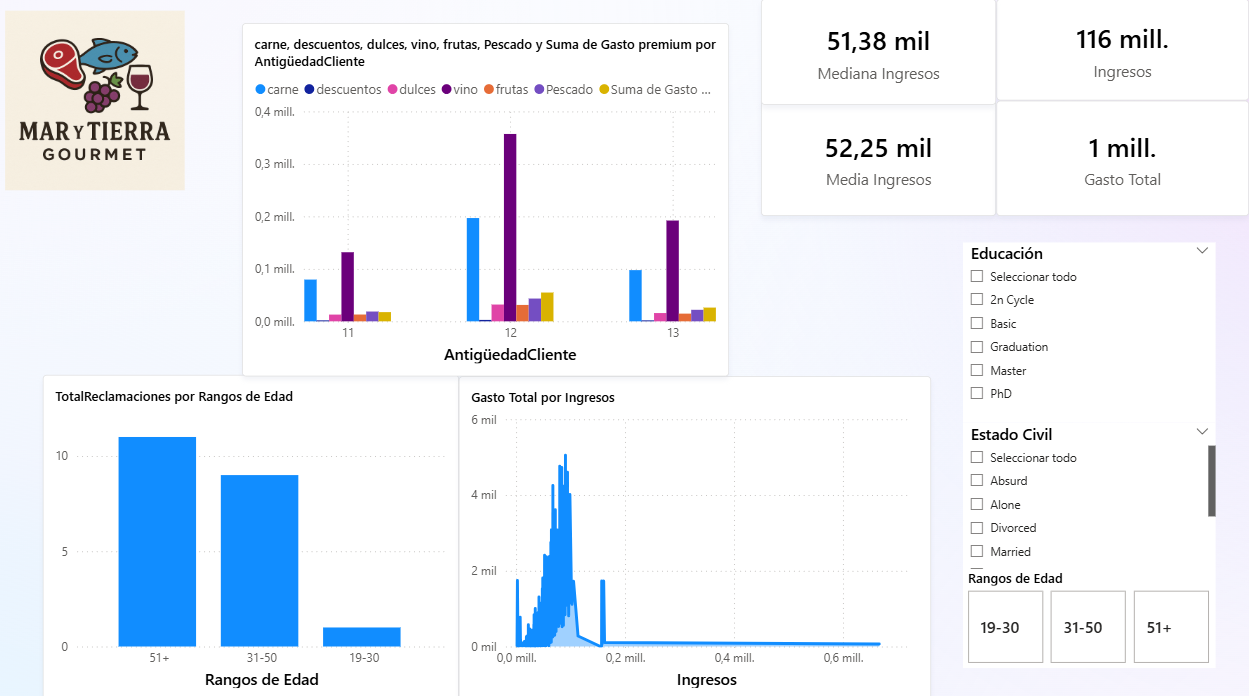

What the dashboard file says about the page in this screenshot:
{"tool":"powerbi","page":{"name":"Página 1","canvas":[1280,720],"ordinal":0},"visuals":[{"type":"card","fields":{"Values":["marketing_campaign.MediaIngresos"]},"box":[779.4,104.1,241.1,117.8],"z":0},{"type":"card","fields":{"Values":["Sum(marketing_campaign.Ingresos)"]},"box":[1020.5,0,258.9,104.1],"z":2},{"type":"card","fields":{"Values":["marketing_campaign.Mediana de Edad"]},"box":[779.4,0,241.1,108.2],"z":3},{"type":"card","fields":{"Values":["Sum(marketing_campaign.Gasto Total)"]},"box":[1020.5,104.1,258.9,117.8],"z":4},{"type":"advancedSlicerVisual","fields":{"Values":["marketing_campaign.Rangos de Edad"]},"box":[986.2,583.5,258.9,101.4],"z":5},{"type":"slicer","fields":{"Values":["marketing_campaign.Estado Civil"]},"box":[986.2,434.2,258.9,149.3],"z":6},{"type":"slicer","fields":{"Values":["marketing_campaign.Educación"]},"box":[986.2,249.3,258.9,184.9],"z":7},{"type":"image","box":[0,0,194.5,208.2],"z":9},{"type":"clusteredColumnChart","fields":{"Y":["marketing_campaign.TotalReclamaciones"],"Category":["marketing_campaign.Rangos de Edad"]},"box":[43.8,384.9,426,334.2],"z":10},{"type":"areaChart","fields":{"Category":["marketing_campaign.Ingresos"],"Y":["Sum(marketing_campaign.Gasto Total)"]},"box":[469.8,386.3,483.5,332.9],"z":11},{"type":"clusteredColumnChart","fields":{"Category":["marketing_campaign.AntigüedadCliente"],"Y":["Sum(marketing_campaign.Gasto carne)","Sum(marketing_campaign.Gasto descuentos)","Sum(marketing_campaign.Gasto dulces)","Sum(marketing_campaign.Gasto en vino)","Sum(marketing_campaign.Gasto frutas)","Sum(marketing_campaign.Gasto Pescado)","Sum(marketing_campaign.Gasto premium)"]},"box":[247.9,24.7,498.6,361.6],"z":12}]}

Visuals, with their boxes in screenshot pixels (x1, y1, x2, y2), scaled from the page's 1280x720 canvas onto the 1249x696 screenshot:
card - marketing_campaign.MediaIngresos: select_region(761, 101, 996, 215)
card - Sum(marketing_campaign.Ingresos): select_region(996, 0, 1248, 101)
card - marketing_campaign.Mediana de Edad: select_region(761, 0, 996, 105)
card - Sum(marketing_campaign.Gasto Total): select_region(996, 101, 1248, 215)
advancedSlicerVisual - marketing_campaign.Rangos de Edad: select_region(962, 564, 1215, 662)
slicer - marketing_campaign.Estado Civil: select_region(962, 420, 1215, 564)
slicer - marketing_campaign.Educación: select_region(962, 241, 1215, 420)
image: select_region(0, 0, 190, 201)
clusteredColumnChart - marketing_campaign.TotalReclamaciones x marketing_campaign.Rangos de Edad: select_region(43, 372, 458, 695)
areaChart - marketing_campaign.Ingresos x Sum(marketing_campaign.Gasto Total): select_region(458, 373, 930, 695)
clusteredColumnChart - marketing_campaign.AntigüedadCliente x Sum(marketing_campaign.Gasto carne): select_region(242, 24, 728, 373)
